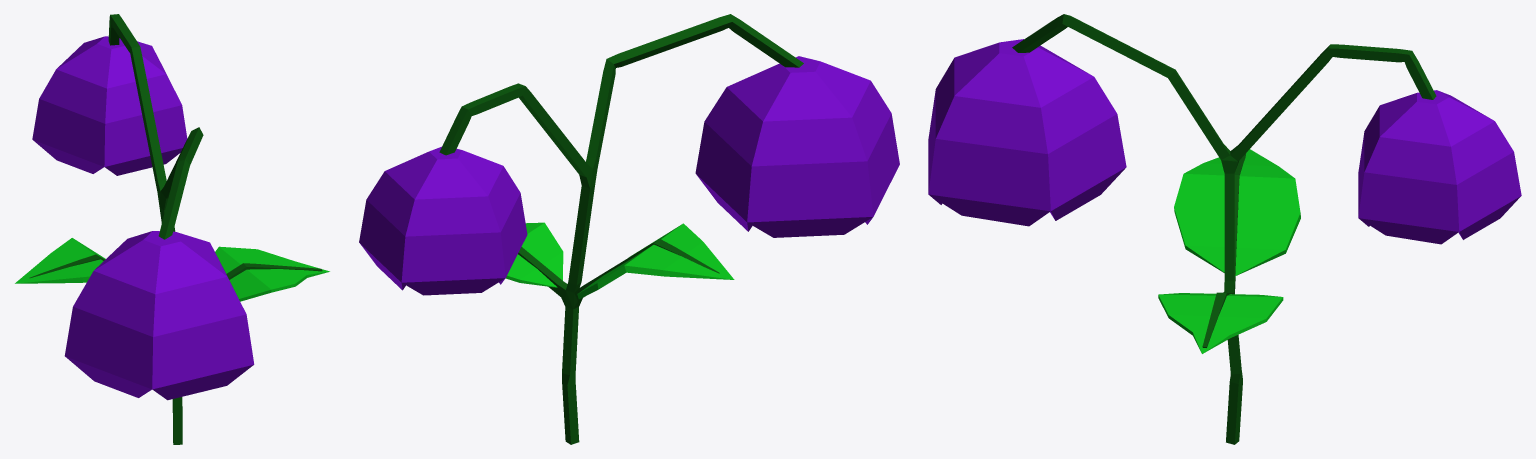
Rendered from glockenblume.obj.
3 renders of one model, left to right at view 1: azimuth 30°, elevation 25°; view 2: azimuth 150°, elevation 25°; view 3: azimuth 270°, elevation 25°, orthographic. The views are drawn at different scales.
Visible parts, largest first — view 1: Cone, Circle, Plane.001, Plane; view 2: Cone, Circle, Plane, Plane.001; view 3: Cone, Circle, Plane, Plane.001.
Part boxes in pixels (x1,y1,x2,y2): Cone: (32, 36, 254, 400); Circle: (29, 14, 322, 444); Plane.001: (215, 246, 329, 301); Plane: (15, 238, 105, 283); Cone: (359, 56, 899, 295); Circle: (439, 14, 803, 444); Plane: (577, 223, 734, 299); Plane.001: (505, 222, 563, 287); Cone: (928, 39, 1521, 244); Circle: (1012, 14, 1436, 444); Plane: (1174, 149, 1300, 275); Plane.001: (1158, 293, 1283, 353).
Bounding box in the file's own units: 5.09 × 5.3 × 7.14.
